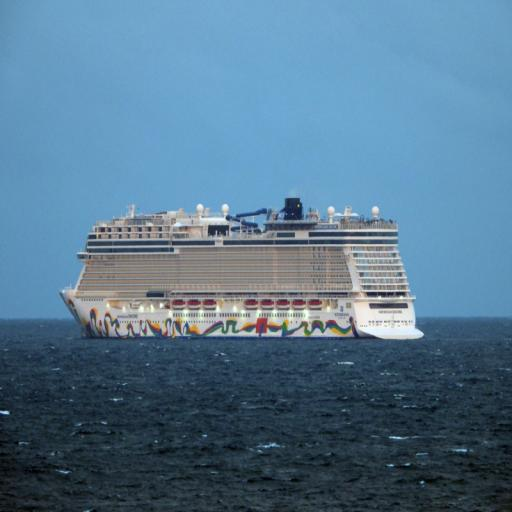cruises: (58, 193, 429, 348)
